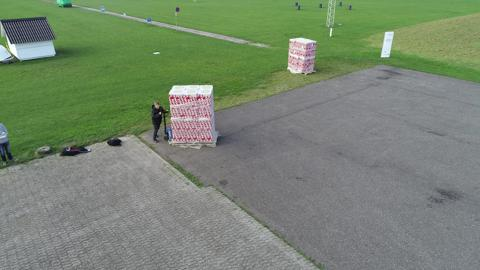RockwoolPallet: (170, 83, 222, 142)
